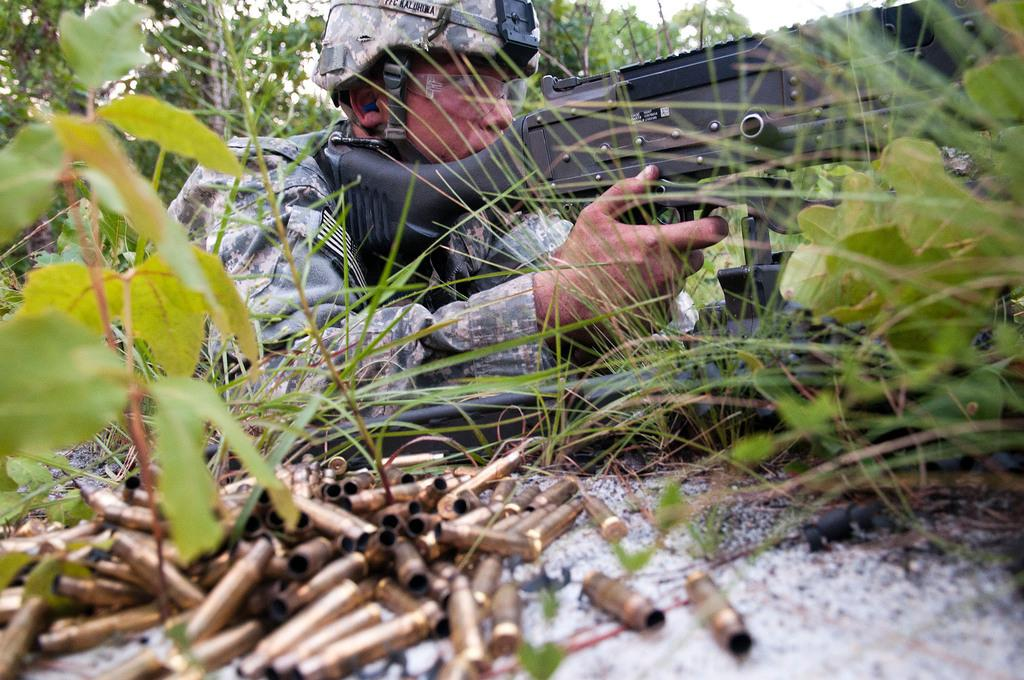Rifle: (328, 0, 1023, 318)
